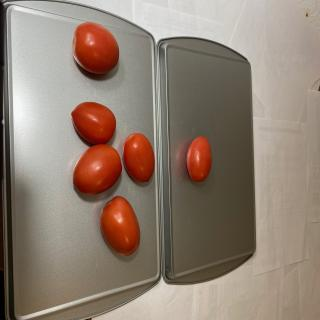Tomato: (73, 144, 122, 195), (72, 22, 119, 74), (100, 196, 140, 256), (71, 102, 116, 144), (122, 132, 155, 182), (186, 136, 212, 182)
